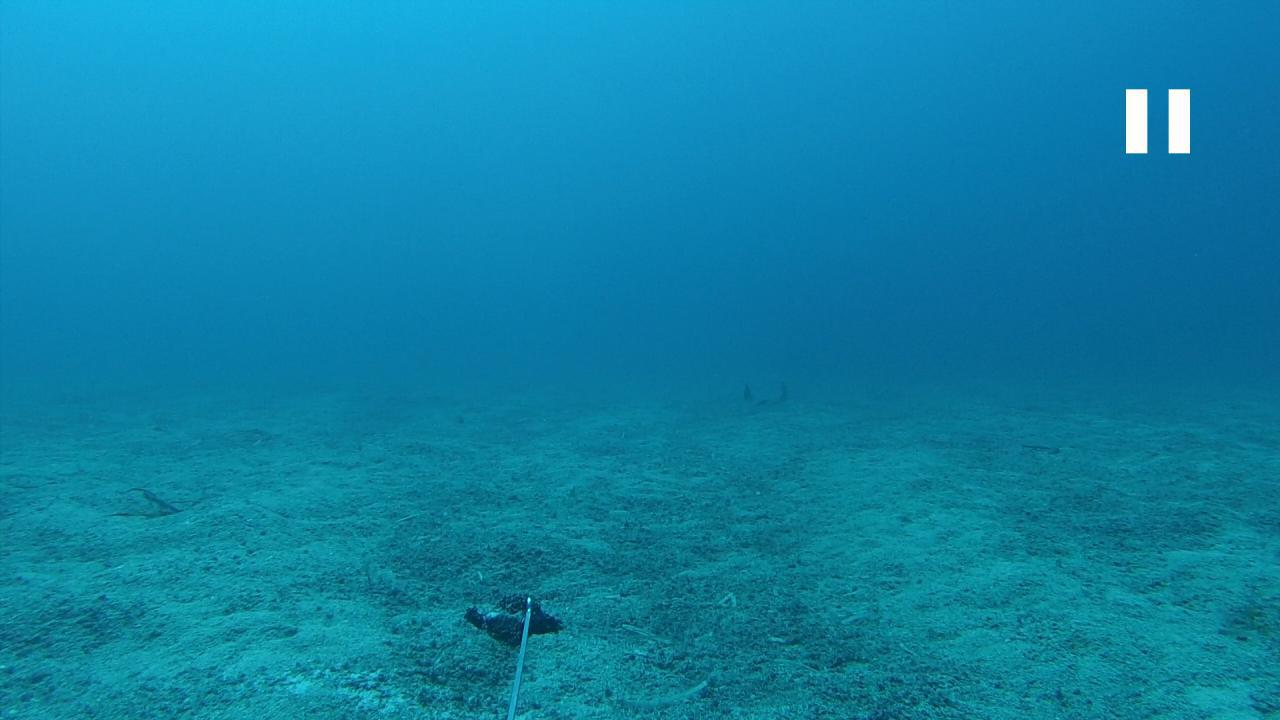dasyatis: (738, 379, 794, 412)
